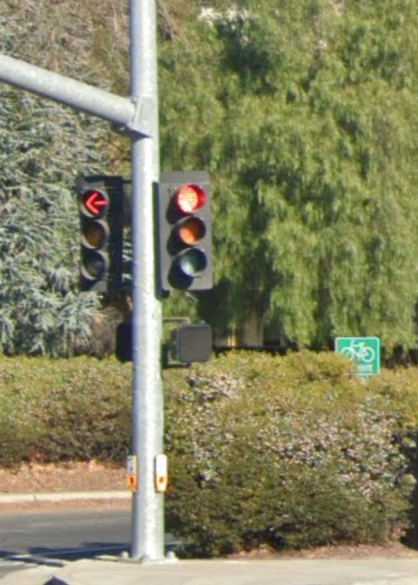red_light: (167, 176, 211, 292)
